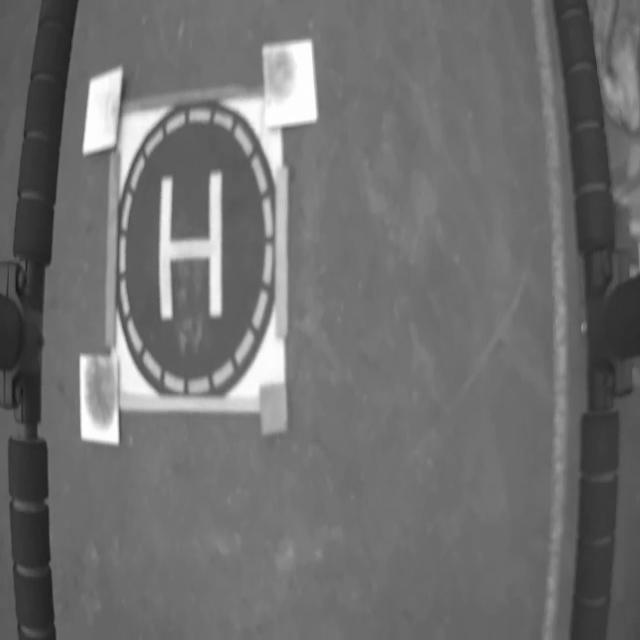Helipad: (159, 170, 222, 317)
